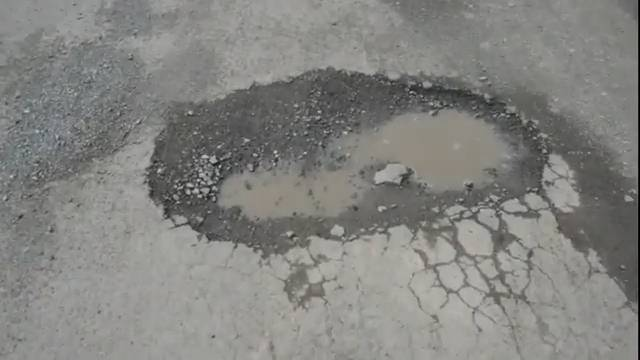pothole: (190, 78, 564, 360), (519, 183, 633, 266)
